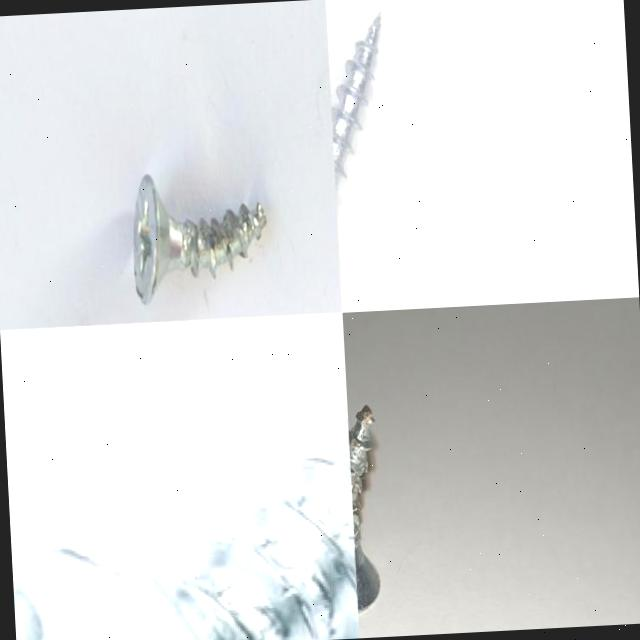Screw: (13, 421, 359, 640), (134, 174, 266, 304), (332, 12, 382, 195), (348, 403, 380, 611)
